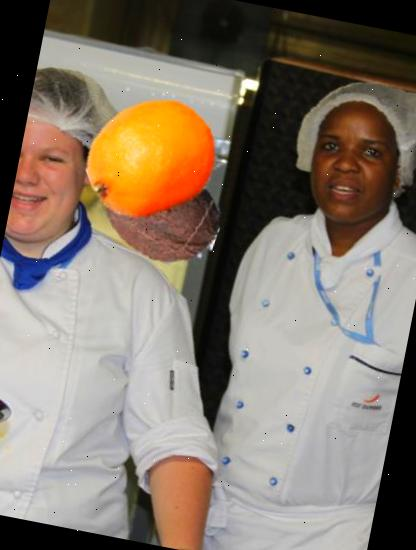Cocos: (92, 144, 233, 283)
Lemon: (74, 81, 228, 236)
